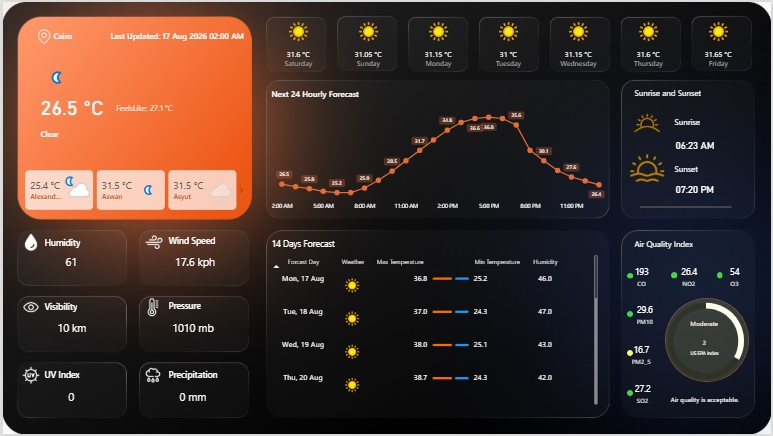

What the dashboard file says about the page in this screenshot:
{"tool":"powerbi","page":{"name":"Orange","canvas":[1920,1080],"ordinal":0},"visuals":[{"type":"shape","box":[78.3,305.6,425,56.7],"z":0},{"type":"donutChart","fields":{"Y":["KPIs_Measures.US EPA Gauge Value","KPIs_Measures.US EPA Gauge Remaining"]},"box":[1623,704,270,286],"z":0,"group":"g1"},{"type":"advancedSlicerVisual","fields":{"Label":["KPIs_Measures.Current Temperature"],"Values":["Dim_Location.City"]},"box":[36,420,571.7,100],"z":1000},{"type":"cardVisual","fields":{"Data":["KPIs_Measures.Current Temperature"]},"box":[78.3,220.6,311.7,88.3],"z":2000},{"type":"shape","box":[109,60,190,56.7],"z":3000},{"type":"image","box":[84,67,36,38],"z":4000},{"type":"shape","box":[253,60,361.7,56.7],"z":5000},{"type":"cardVisual","fields":{"Data":["Min(Fact_Current.ConditionIcon)"]},"box":[70,140.6,133.3,98.3],"z":6000},{"type":"image","box":[46.7,575,45,50],"z":7000},{"type":"image","box":[354,575,45,50],"z":8000},{"type":"image","box":[46.7,738.3,45,50],"z":9000},{"type":"image","box":[353.3,738.3,45,50],"z":10000},{"type":"image","box":[46.7,908.3,45,50],"z":11000},{"type":"image","box":[353.3,908.3,45,50],"z":12000},{"type":"shape","box":[88.3,576.7,190,56.7],"z":13000},{"type":"shape","box":[398.3,571.7,190,56.7],"z":14000},{"type":"shape","box":[88.3,738.3,190,56.7],"z":15000},{"type":"shape","box":[398.3,735,190,56.7],"z":16000},{"type":"shape","box":[88.3,908.3,190,56.7],"z":17000},{"type":"shape","box":[398.3,908.3,190,56.7],"z":18000},{"type":"card","fields":{"Values":["KPIs_Measures.Current Humidity"]},"box":[108.3,620,126.7,65],"z":19000},{"type":"card","fields":{"Values":["KPIs_Measures.Current Wind Speed (kph)"]},"box":[398.3,620,165,65],"z":20000},{"type":"card","fields":{"Values":["KPIs_Measures.Current Pressure MB"]},"box":[393,784,165,65],"z":21000},{"type":"card","fields":{"Values":["KPIs_Measures.Current Visibility KM"]},"box":[89,784,165,65],"z":22000},{"type":"card","fields":{"Values":["KPIs_Measures.Current UV Index"]},"box":[88.3,958.3,165,65],"z":23000},{"type":"card","fields":{"Values":["KPIs_Measures.Current Percipitation MM"]},"box":[393.3,958.3,165,65],"z":24000},{"type":"advancedSlicerVisual","fields":{"Values":["Dim_Date.Day Name"]},"box":[654,30,1220,144],"z":25000},{"type":"shape","box":[1563.3,201.7,285,56.7],"z":26000},{"type":"shape","box":[1663.3,275,85,55],"z":27000},{"type":"shape","box":[1663.3,391.7,85,55],"z":28000},{"type":"image","box":[1560,260,100,85],"z":29000},{"type":"image","box":[1560,371.7,100,85],"z":30000},{"type":"cardVisual","fields":{"Data":["Min(Fact_Forecast_Daily.Sunrise)"]},"box":[1664,328.8,183.2,59.6],"z":31000},{"type":"cardVisual","fields":{"Data":["Min(Fact_Forecast_Daily.Sunset)"]},"box":[1664,439.2,183.2,59.6],"z":32000},{"type":"tableEx","title":"14 Days Forecast","fields":{"Values":["Fact_Forecast_Daily.Forcast Day","Fact_Forecast_Daily.ConditionIcon","KPIs_Measures.Max Forecast Temperature","KPIs_Measures.Max Temp Bar","KPIs_Measures.Min Temp Bar","KPIs_Measures.Min Forecast Temperature","KPIs_Measures.Avg Forecast Humidity"]},"box":[654,576,848,448],"z":33000},{"type":"shape","box":[267.8,239.5,425,56.7],"z":34000},{"type":"lineChart","title":"Next 24 Hourly Forecast","fields":{"Category":["Fact_Forecast_Hourly.DateTime"],"Y":["Sum(Fact_Forecast_Hourly.Temperature_C)"]},"box":[655,202.5,880,337.5],"z":35000},{"type":"shape","box":[1562.5,580,285,56.7],"z":36000},{"type":"card","fields":{"Values":["Sum(Fact_Current.air_quality.co)"]},"box":[1560,645,73.3,83.3],"z":37000},{"type":"card","fields":{"Values":["Sum(Fact_Current.air_quality.pm10)"]},"box":[1563.3,740,84,83.3],"z":38000},{"type":"card","fields":{"Values":["Sum(Fact_Current.air_quality.pm2_5)"]},"box":[1555.6,840,81.1,83.3],"z":39000},{"type":"card","fields":{"Values":["Sum(Fact_Current.air_quality.so2)"]},"box":[1563.3,936.7,73.3,83.3],"z":40000},{"type":"card","fields":{"Values":["Sum(Fact_Current.air_quality.no2)"]},"box":[1675.6,645,80,83.3],"z":41000},{"type":"card","fields":{"Values":["Sum(Fact_Current.air_quality.o3)"]},"box":[1792.2,645,73.3,83.3],"z":42000},{"type":"shape","box":[1560,677.1,15.7,14.3],"z":43000},{"type":"shape","box":[1591.4,438.6,228.6,150],"z":44000},{"type":"shape","box":[1670,676,16,16],"z":45000},{"type":"shape","box":[1786,676,14,16],"z":46000},{"type":"shape","box":[1560,772,15,15],"z":47000},{"type":"shape","box":[1560,870,15,15],"z":48000},{"type":"shape","box":[1560,970,15,15],"z":49000},{"type":"card","fields":{"Values":["KPIs_Measures.US EPA Status"]},"box":[1683.3,766.7,142,80],"z":50000},{"type":"shape","box":[1655,740,210,210],"z":51000,"group":"g1"},{"type":"card","fields":{"Values":["KPIs_Measures.US EPA Guidance"]},"box":[1618,958,274,80],"z":51000},{"type":"group","id":"g1","title":"Group 1","box":[1623,704,270,286],"z":52000},{"type":"card","fields":{"Values":["KPIs_Measures.US EPA Index"]},"box":[1683,821,142,80],"z":52000,"group":"g1"},{"type":"shape","box":[579,213,20,20],"z":53000},{"type":"shape","box":[579,243,20,20],"z":54000},{"type":"shape","box":[579,273,20,20],"z":55000},{"type":"shape","box":[1492,1041,425,39],"z":55001}]}

Visuals, with their boxes in screenshot pixels (x1, y1, x2, y2), scaled from the page's 1920x1080 canvas onto the 773x436 screenshot:
shape: 32, 123, 203, 146
donutChart - KPIs_Measures.US EPA Gauge Value x KPIs_Measures.US EPA Gauge Remaining: 653, 284, 762, 400
advancedSlicerVisual - KPIs_Measures.Current Temperature x Dim_Location.City: 14, 170, 245, 210
cardVisual - KPIs_Measures.Current Temperature: 32, 89, 157, 125
shape: 44, 24, 120, 47
image: 34, 27, 48, 42
shape: 102, 24, 247, 47
cardVisual - Min(Fact_Current.ConditionIcon): 28, 57, 82, 96
image: 19, 232, 37, 252
image: 143, 232, 161, 252
image: 19, 298, 37, 318
image: 142, 298, 160, 318
image: 19, 367, 37, 387
image: 142, 367, 160, 387
shape: 36, 233, 112, 256
shape: 160, 231, 237, 254
shape: 36, 298, 112, 321
shape: 160, 297, 237, 320
shape: 36, 367, 112, 390
shape: 160, 367, 237, 390
card - KPIs_Measures.Current Humidity: 44, 250, 95, 277
card - KPIs_Measures.Current Wind Speed (kph): 160, 250, 227, 277
card - KPIs_Measures.Current Pressure MB: 158, 317, 225, 343
card - KPIs_Measures.Current Visibility KM: 36, 317, 102, 343
card - KPIs_Measures.Current UV Index: 36, 387, 102, 413
card - KPIs_Measures.Current Percipitation MM: 158, 387, 225, 413
advancedSlicerVisual - Dim_Date.Day Name: 263, 12, 754, 70
shape: 629, 81, 744, 104
shape: 670, 111, 704, 133
shape: 670, 158, 704, 180
image: 628, 105, 668, 139
image: 628, 150, 668, 184
cardVisual - Min(Fact_Forecast_Daily.Sunrise): 670, 133, 744, 157
cardVisual - Min(Fact_Forecast_Daily.Sunset): 670, 177, 744, 201
"14 Days Forecast" tableEx: 263, 233, 605, 413
shape: 108, 97, 279, 120
"Next 24 Hourly Forecast" lineChart: 264, 82, 618, 218
shape: 629, 234, 744, 257
card - Sum(Fact_Current.air_quality.co): 628, 260, 658, 294
card - Sum(Fact_Current.air_quality.pm10): 629, 299, 663, 332
card - Sum(Fact_Current.air_quality.pm2_5): 626, 339, 659, 373
card - Sum(Fact_Current.air_quality.so2): 629, 378, 659, 412
card - Sum(Fact_Current.air_quality.no2): 675, 260, 707, 294
card - Sum(Fact_Current.air_quality.o3): 722, 260, 751, 294
shape: 628, 273, 634, 279
shape: 641, 177, 733, 238
shape: 672, 273, 679, 279
shape: 719, 273, 725, 279
shape: 628, 312, 634, 318
shape: 628, 351, 634, 357
shape: 628, 392, 634, 398
card - KPIs_Measures.US EPA Status: 678, 310, 735, 342
shape: 666, 299, 751, 384
card - KPIs_Measures.US EPA Guidance: 651, 387, 762, 419
"Group 1" group: 653, 284, 762, 400
card - KPIs_Measures.US EPA Index: 678, 331, 735, 364
shape: 233, 86, 241, 94
shape: 233, 98, 241, 106
shape: 233, 110, 241, 118
shape: 601, 420, 772, 435
